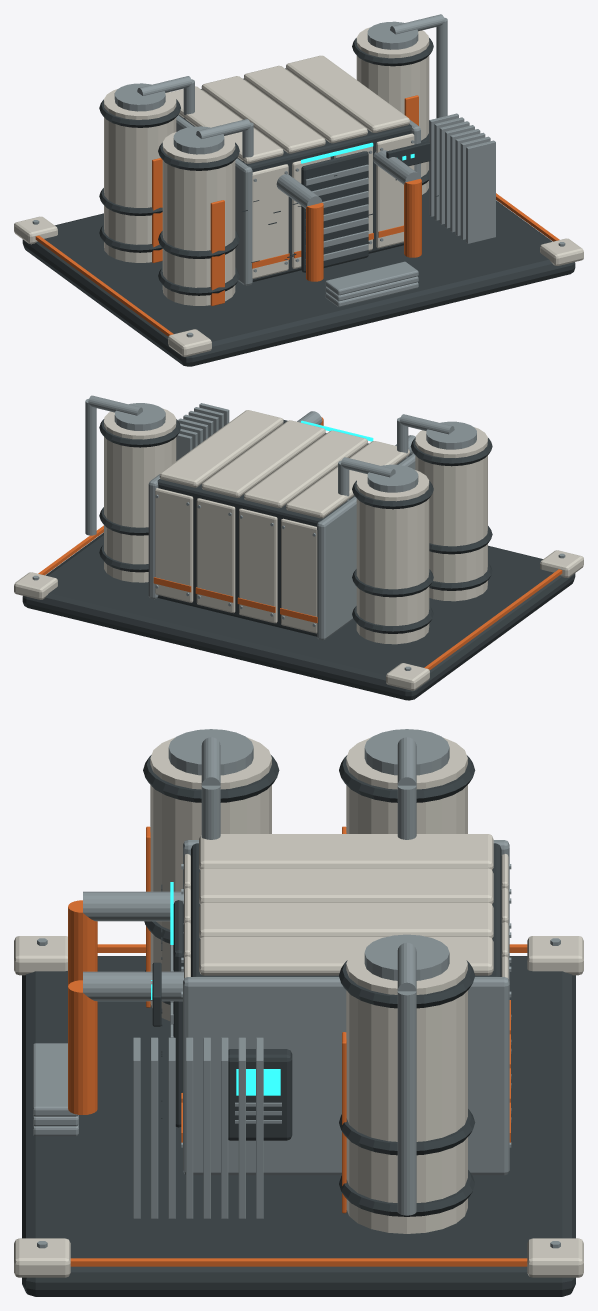
Rendered from SM_CoolingSystemsPlant_Body.002.fbx.
3 views of the same model, one above another, from view 1: azimuth 30°, elevation 25°; view 2: azimuth 150°, elevation 25°; view 3: azimuth 270°, elevation 25° (orthographic). The views are drawn at different scales.
Parts seen in each view (by area): view 1: SM_CoolingSystemsPlant_Body.002; view 2: SM_CoolingSystemsPlant_Body.002; view 3: SM_CoolingSystemsPlant_Body.002.
Boxes of the visible parts, x1,y1,x2,y2 form: SM_CoolingSystemsPlant_Body.002: [14, 14, 583, 366]; SM_CoolingSystemsPlant_Body.002: [14, 395, 583, 700]; SM_CoolingSystemsPlant_Body.002: [14, 729, 583, 1296].
Bounding box in the file's own units: 572 × 422 × 247.
